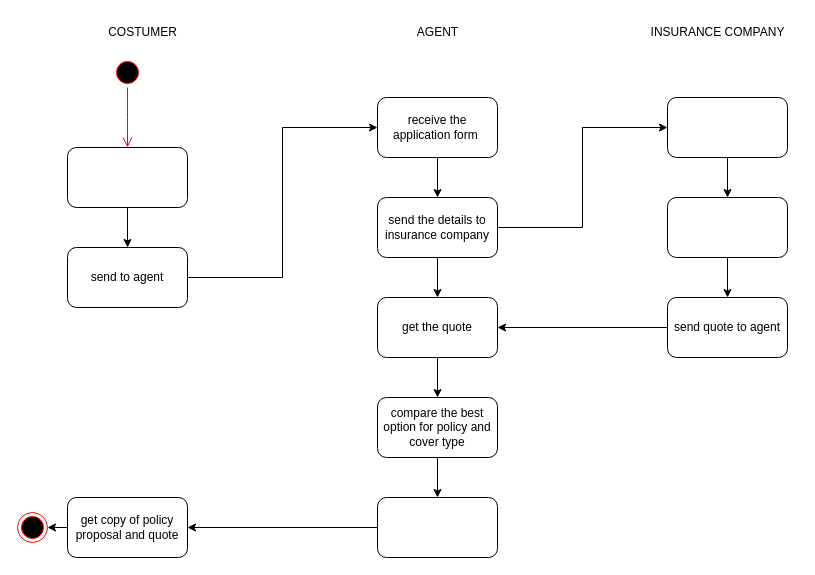
This 815x575 diagram has some shape labels left out. The shapes that lost their labels are listed below. From the top down, each one's centre as x and y in pixels, then its label:
(x=727, y=127): receive the request for the company
(x=127, y=177): fill the application form with deltails
(x=727, y=227): make the quote
(x=437, y=527): send offer to the company
